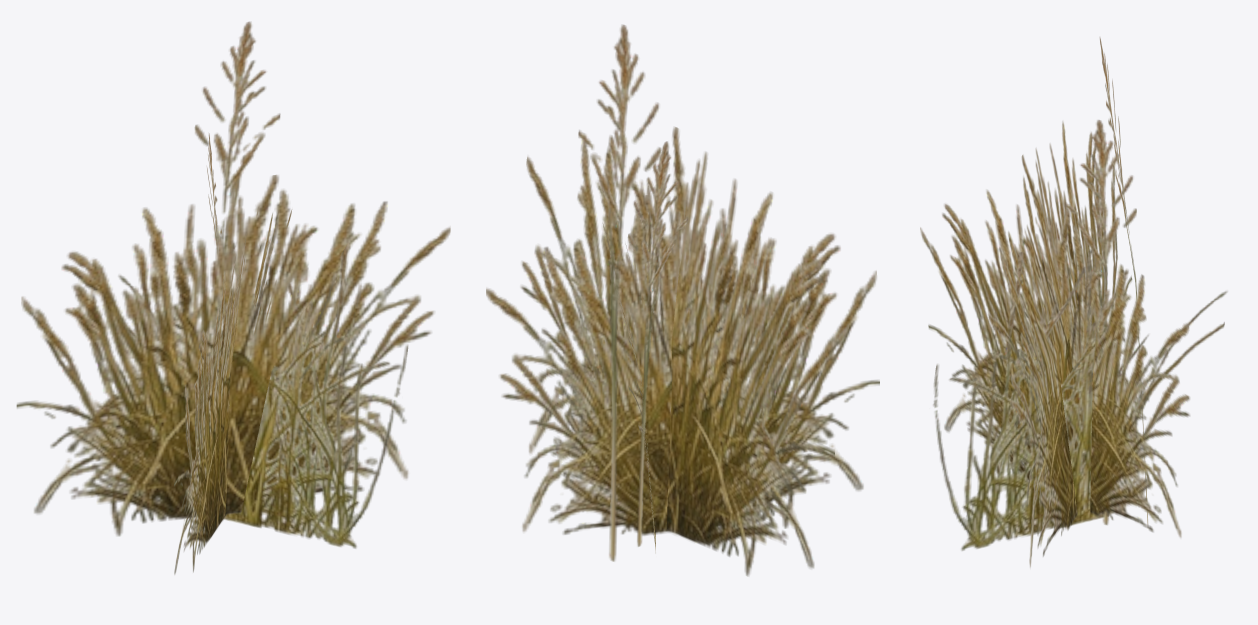
Rendered from grass_b.glb.
3 views of the same model, side by side, from view 1: azimuth 30°, elevation 25°; view 2: azimuth 150°, elevation 25°; view 3: azimuth 270°, elevation 25° (orthographic). The views are drawn at different scales.
Visible parts, largest first — view 1: grass_b; view 2: grass_b; view 3: grass_b.
Part boxes in pixels (<box>): grass_b: <box>16,21,450,574</box>; grass_b: <box>486,24,879,576</box>; grass_b: <box>920,37,1227,567</box>.
Size of the model in its own units: 0.6099 by 0.7492 by 0.4554.
1 material, 1 textured.
